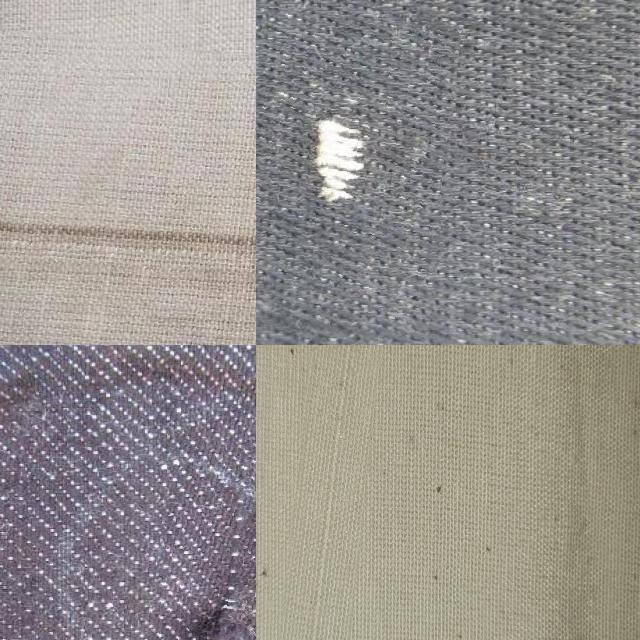Thread_other: (0, 43, 256, 345), (256, 11, 452, 337), (278, 345, 383, 640), (148, 438, 256, 640)
